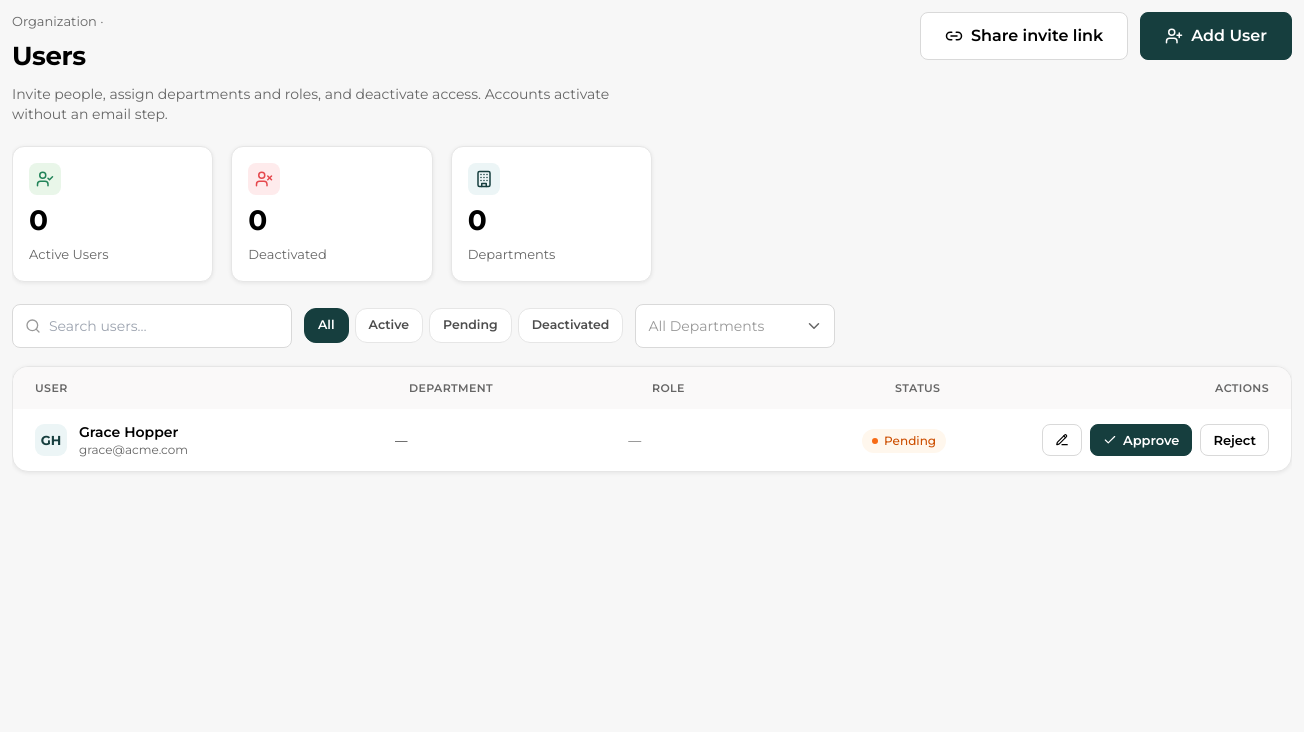
Test: Approve posts /approve and reloads the list
Check: the text "Grace Hopper" is shown, box [79,422,188,442]
Click the button "Approve".
click(1141, 440)  # box [1090,424,1192,456]
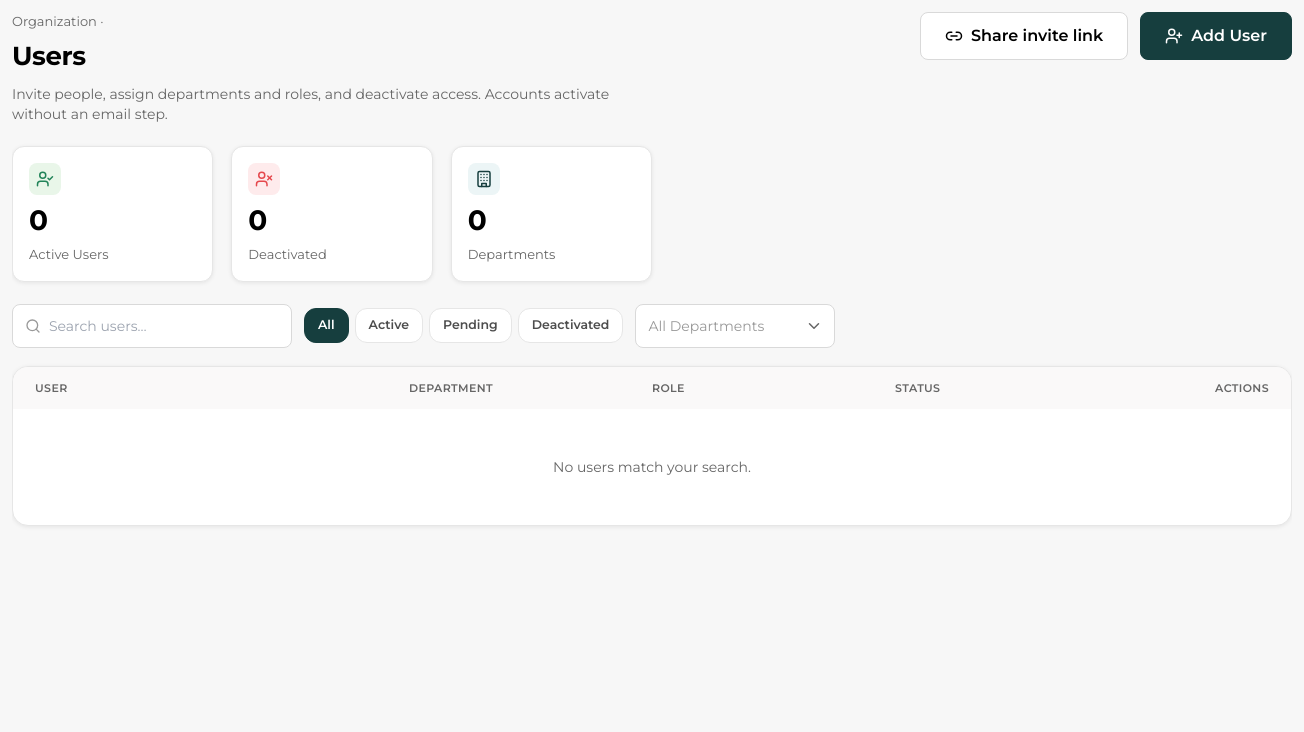
Check: the text "No users match your search." is shown, box [553,458,751,476]
